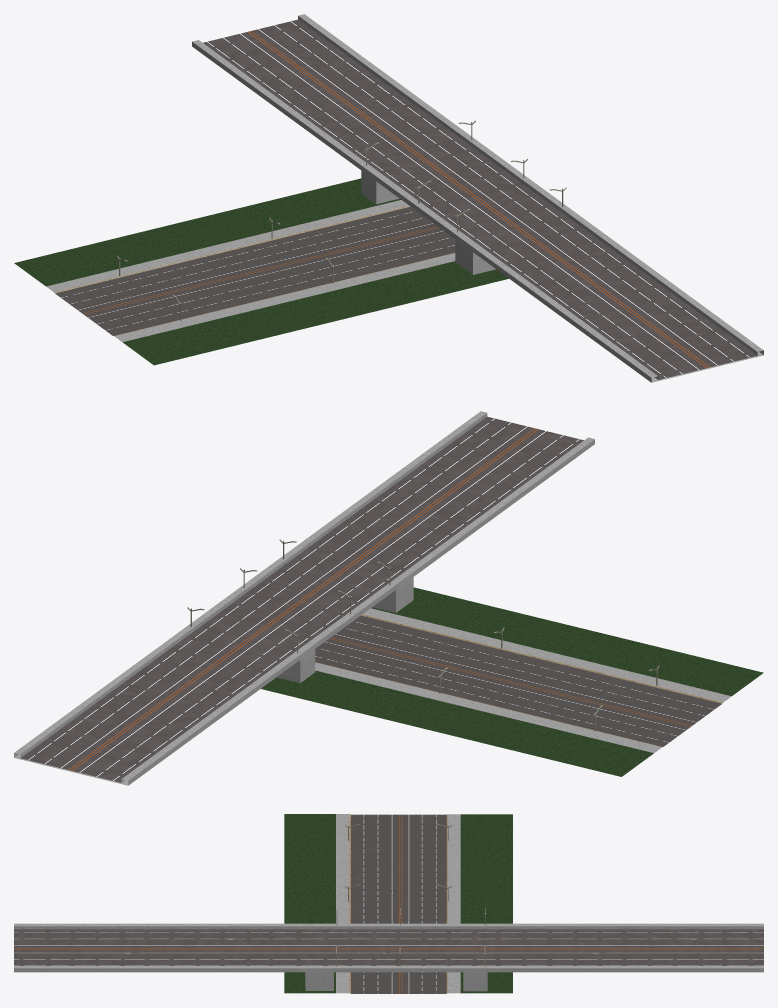
The picture shows the model from 3 angles, top to bottom: view 1: azimuth 30°, elevation 25°; view 2: azimuth 150°, elevation 25°; view 3: azimuth 270°, elevation 25°; orthographic projection. The views are drawn at different scales.
Visible parts, largest first — view 1: ponte1, pista; view 2: ponte1, pista; view 3: ponte1, pista.
Part boxes in pixels (box(x1,y1,x2,y2)): ponte1: box(192, 14, 763, 382); pista: box(14, 178, 508, 365); ponte1: box(14, 411, 594, 785); pista: box(261, 587, 763, 776); ponte1: box(14, 923, 763, 991); pista: box(284, 814, 512, 993).
Bounding box in the file's own units: 10.75 × 1.11 × 19.01.
